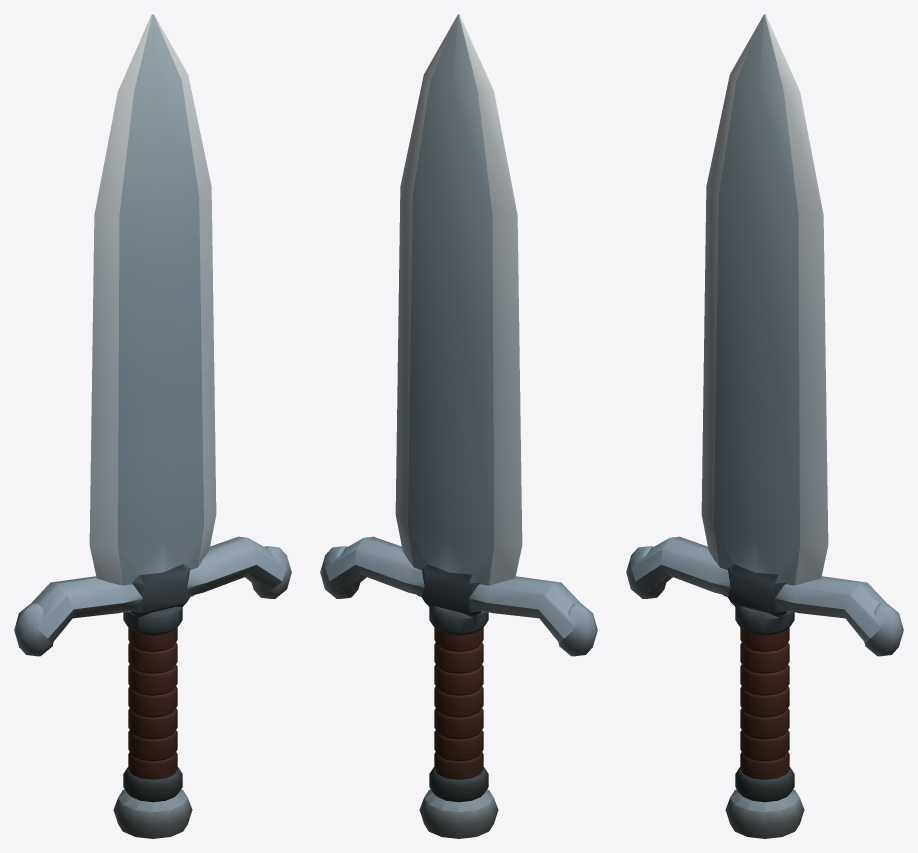
The model's file is broadsword_steel.glb.
The picture shows the model from 3 angles, left to right: view 1: azimuth 30°, elevation 25°; view 2: azimuth 150°, elevation 25°; view 3: azimuth 330°, elevation 25°; orthographic projection.
Visible parts, largest first — view 1: Item; view 2: Item; view 3: Item.
Boxes of the visible parts, x1,y1,x2,y2 form: Item: [14, 14, 291, 838]; Item: [320, 14, 597, 838]; Item: [626, 14, 903, 838].
Size of the model in its own units: 0.5816 by 1.66 by 0.146.
Materials: 2 (2 with a texture image).
